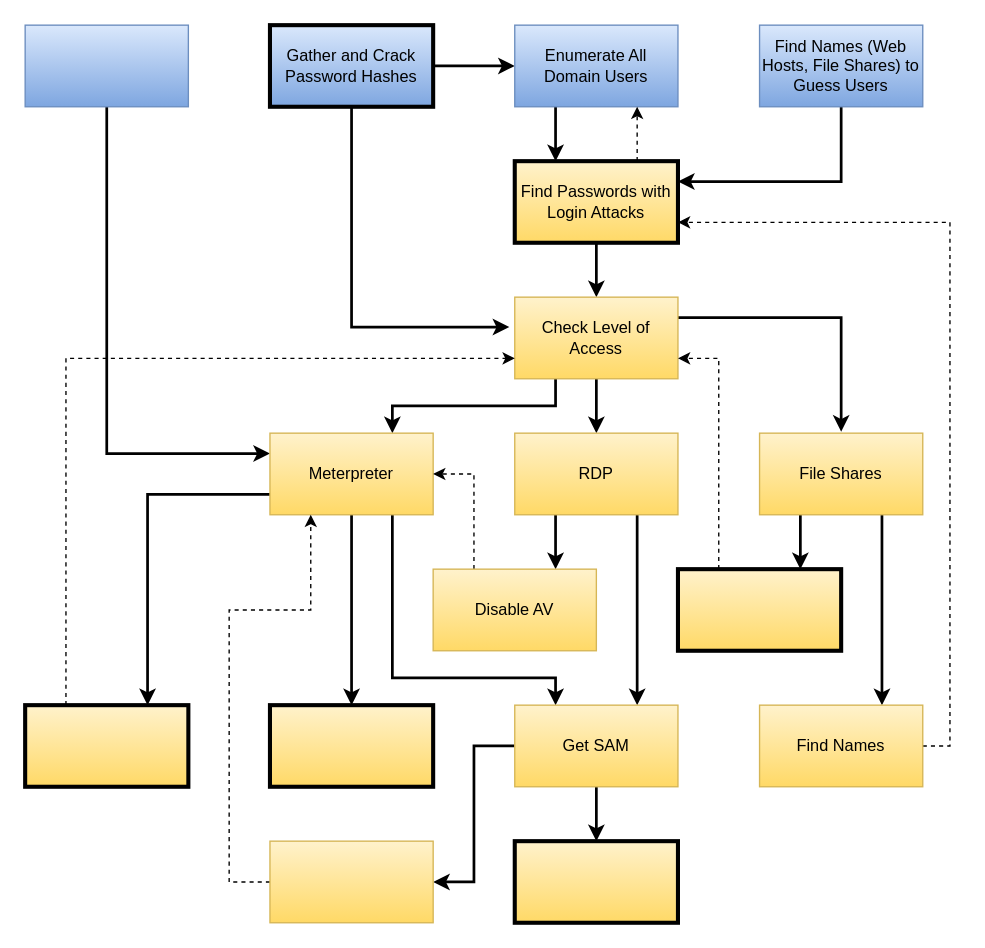
Image size: 985x948. Some labels were removed from this diagram. Here are the shapes that lost their labels. From the top down, the centre of each, then its label:
At pixel 106 65: "Find Older OSes".
At pixel 759 609: "Find Docs with Credentials".
At pixel 106 745: "Get Cached Credentials".
At pixel 351 745: "Impersonate Sessions".
At pixel 351 881: "Pass the Hash for Local Admin on Other Systems".
At pixel 595 881: "Pass the Hash for Domain Admin".
